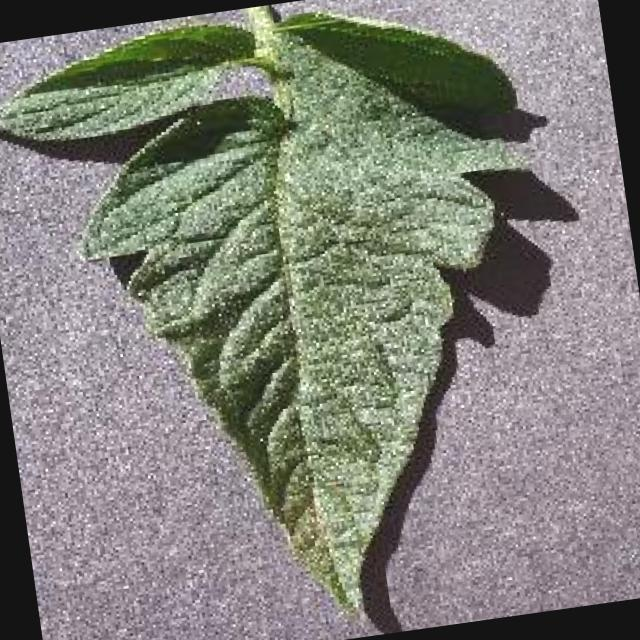healthy: (0, 4, 541, 620)
